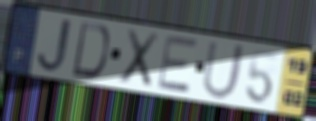5: (244, 47, 281, 106)
D: (69, 20, 111, 81)
E: (156, 35, 199, 95)
J: (34, 16, 75, 74)
U: (200, 38, 248, 102)
X: (116, 27, 162, 90)
